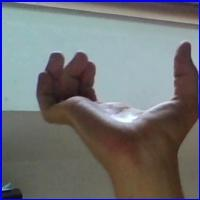B: (24, 39, 199, 172)
